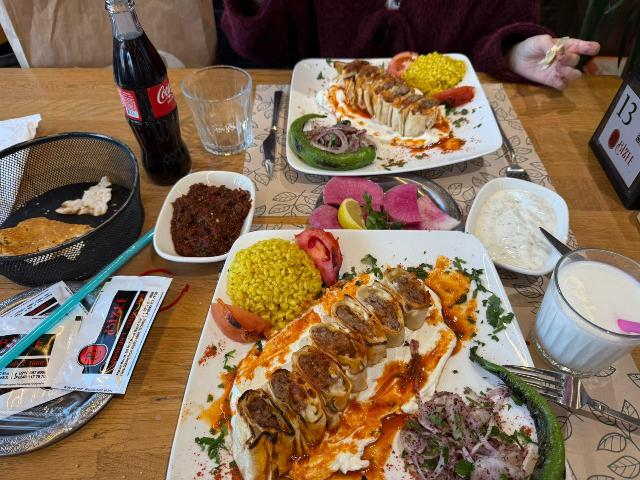Cam: (103, 6, 194, 170), (184, 67, 251, 150)
Kagit: (0, 116, 45, 144)
Metal: (546, 378, 640, 422)
Organik: (229, 404, 292, 470), (422, 414, 502, 458), (4, 224, 89, 255), (292, 232, 349, 276), (180, 200, 231, 246), (210, 304, 265, 336), (55, 193, 115, 216), (492, 215, 528, 251), (336, 200, 370, 232), (390, 184, 418, 219)
Plastik: (66, 280, 171, 393), (117, 82, 172, 122), (104, 235, 151, 275)
